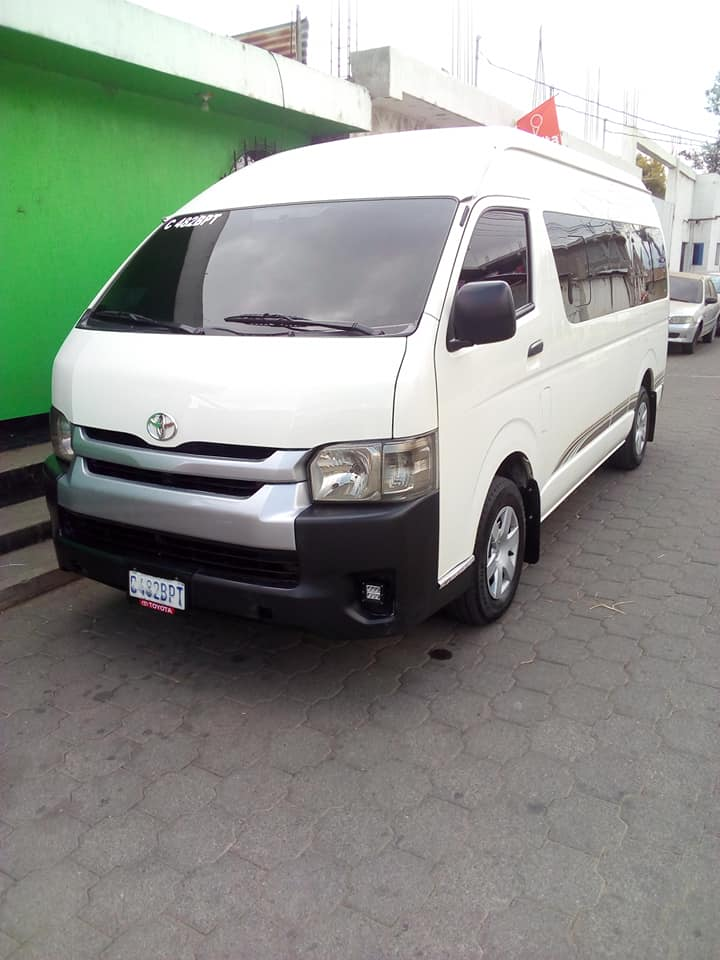bus: (40, 120, 668, 640)
